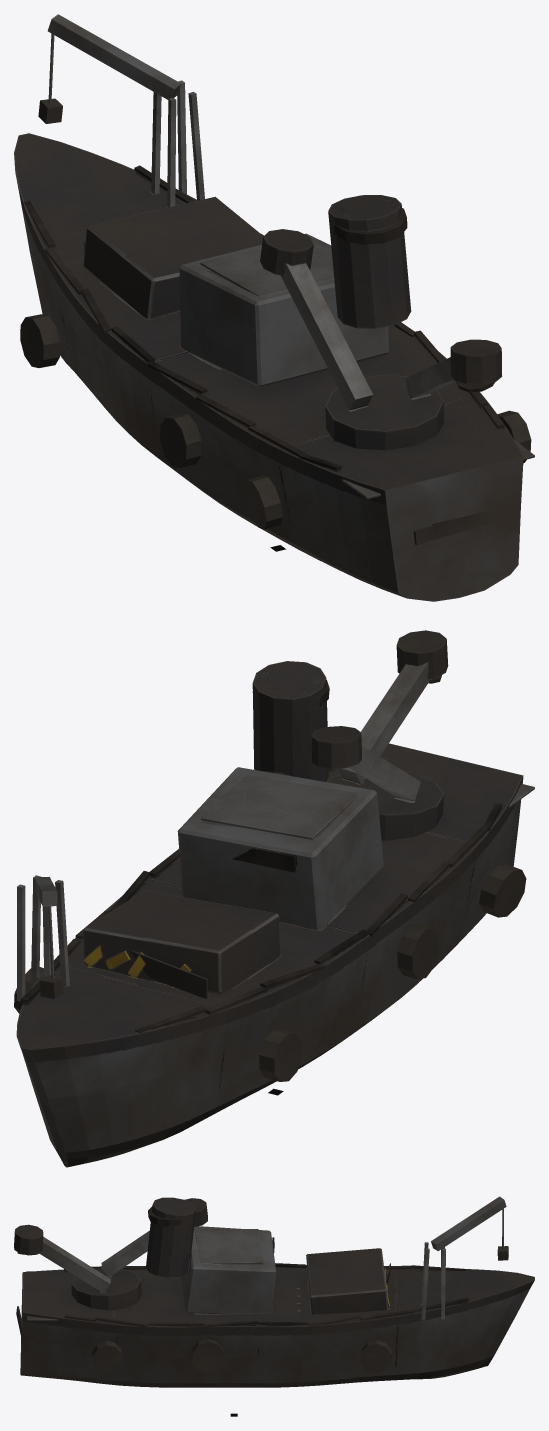
File: chs_reaver_wreck.fbx
The picture shows the model from 3 angles, top to bottom: view 1: azimuth 30°, elevation 25°; view 2: azimuth 150°, elevation 25°; view 3: azimuth 270°, elevation 25°; orthographic projection. The views are drawn at different scales.
Visible parts, largest first — view 1: base_bar, nano_bar; view 2: base_bar, nano_bar; view 3: base_bar, nano_bar.
Boxes of the visible parts, bbox=[...] form: base_bar: bbox=[14, 14, 534, 601]; nano_bar: bbox=[260, 229, 502, 450]; base_bar: bbox=[14, 661, 534, 1167]; nano_bar: bbox=[311, 630, 448, 840]; base_bar: bbox=[16, 1196, 534, 1387]; nano_bar: bbox=[14, 1198, 207, 1310].
Size of the model in its own units: 519 by 691 by 1472.
2 materials, 2 textured.
